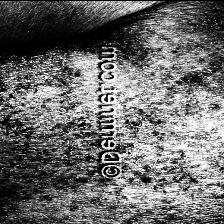Non-Cancerous Skin Condition: (0, 56, 95, 224), (125, 34, 224, 190)
